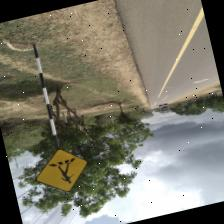yellowboard: (30, 143, 94, 199)
